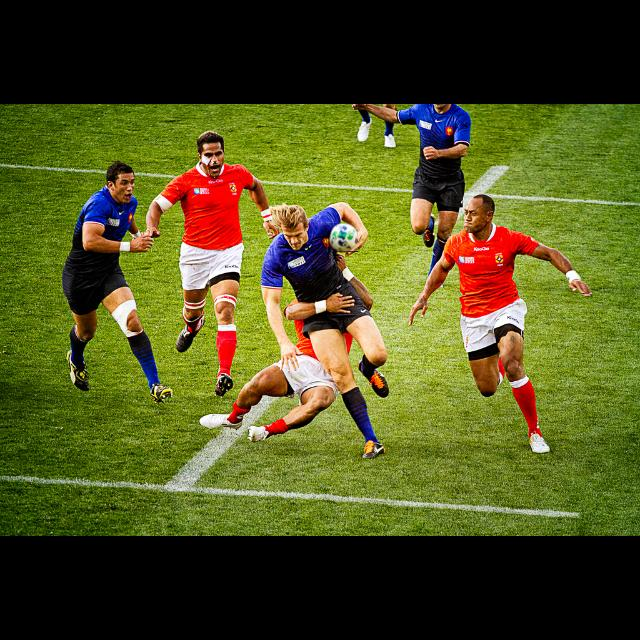Football: (326, 222, 358, 252)
